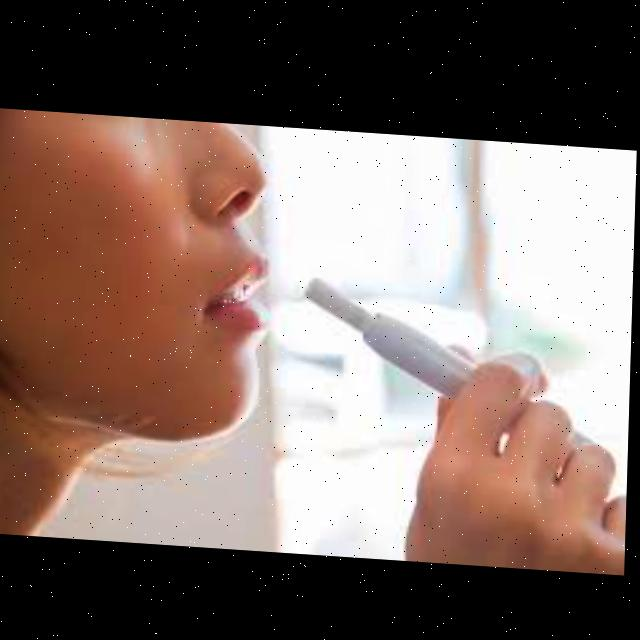vape: (305, 271, 485, 395)
